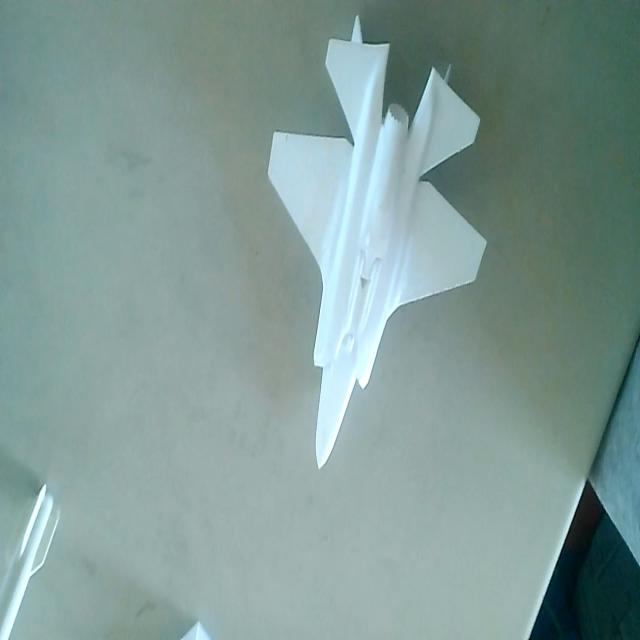Jet: (262, 12, 490, 474)
Rocket: (0, 457, 64, 640)
